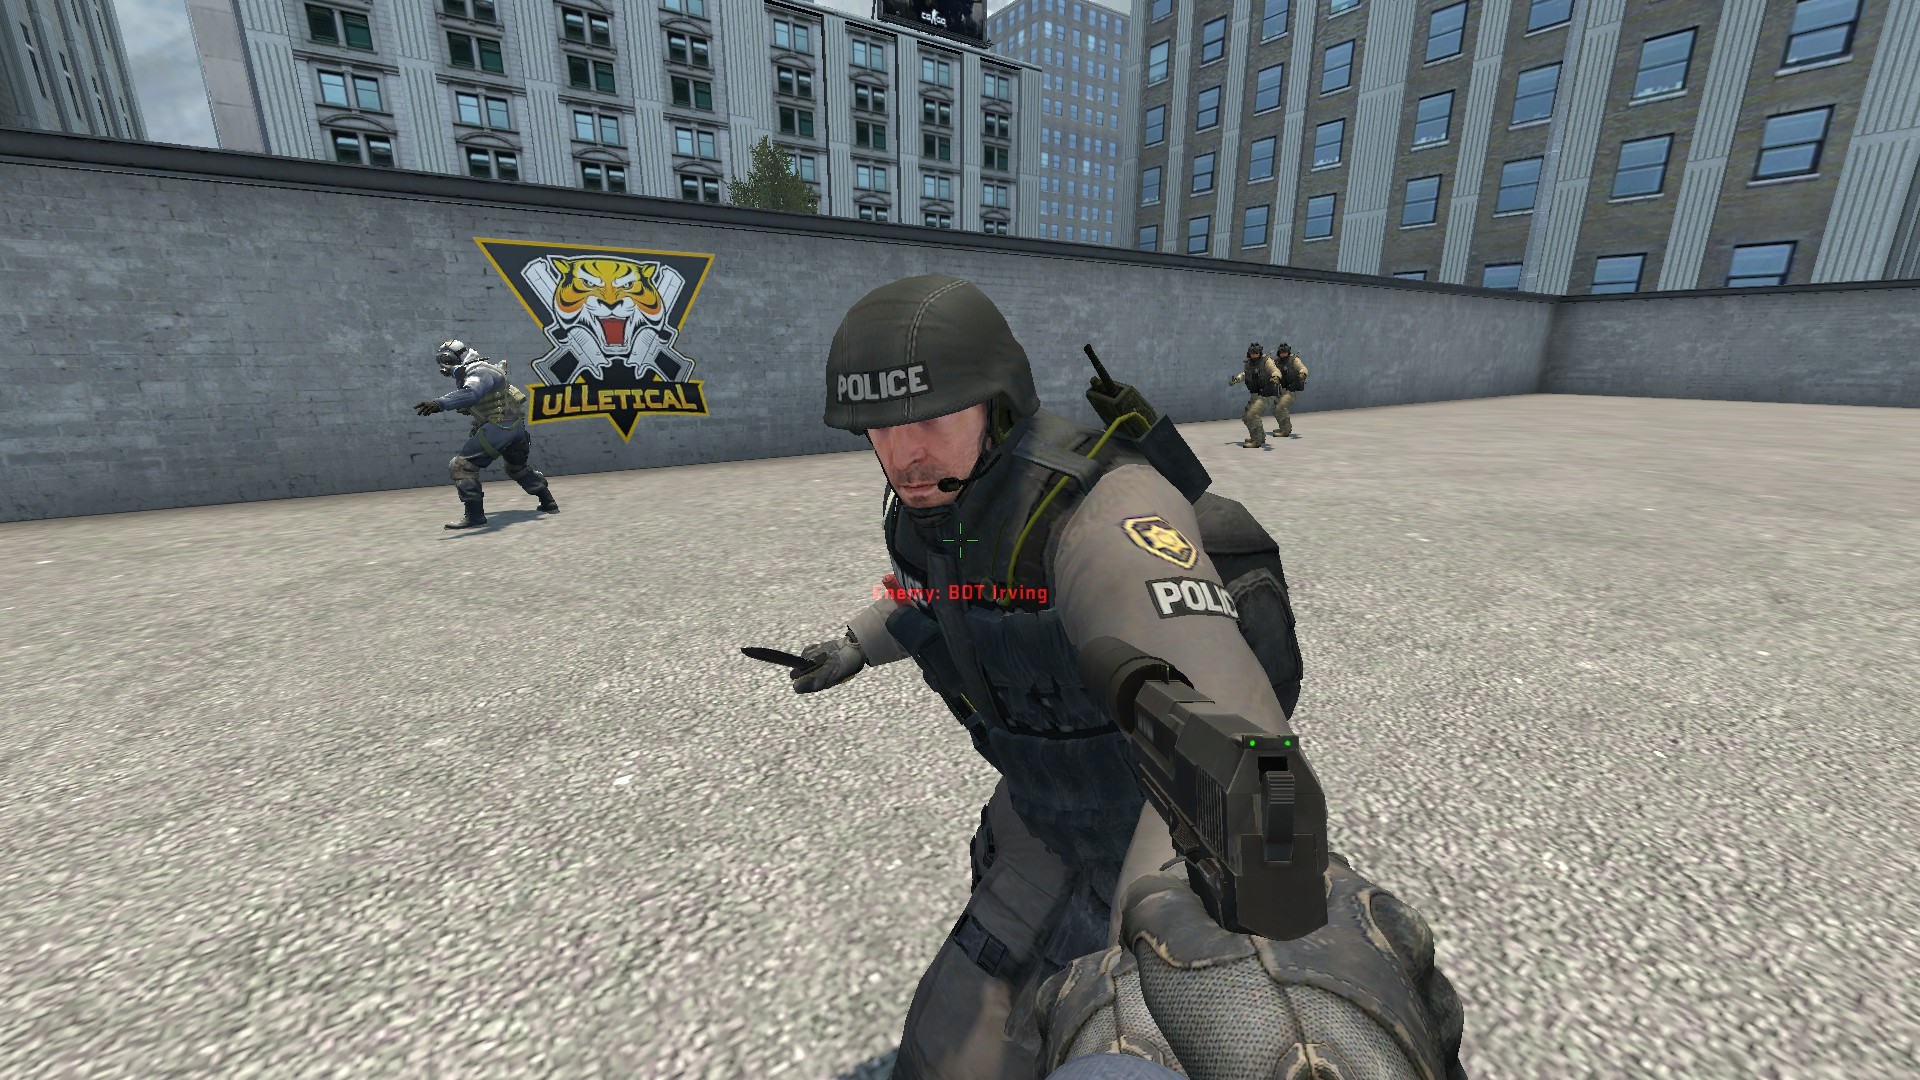ct: (738, 268, 1308, 1080), (414, 338, 567, 535)
ct head: (822, 266, 1052, 531), (433, 334, 481, 384)
